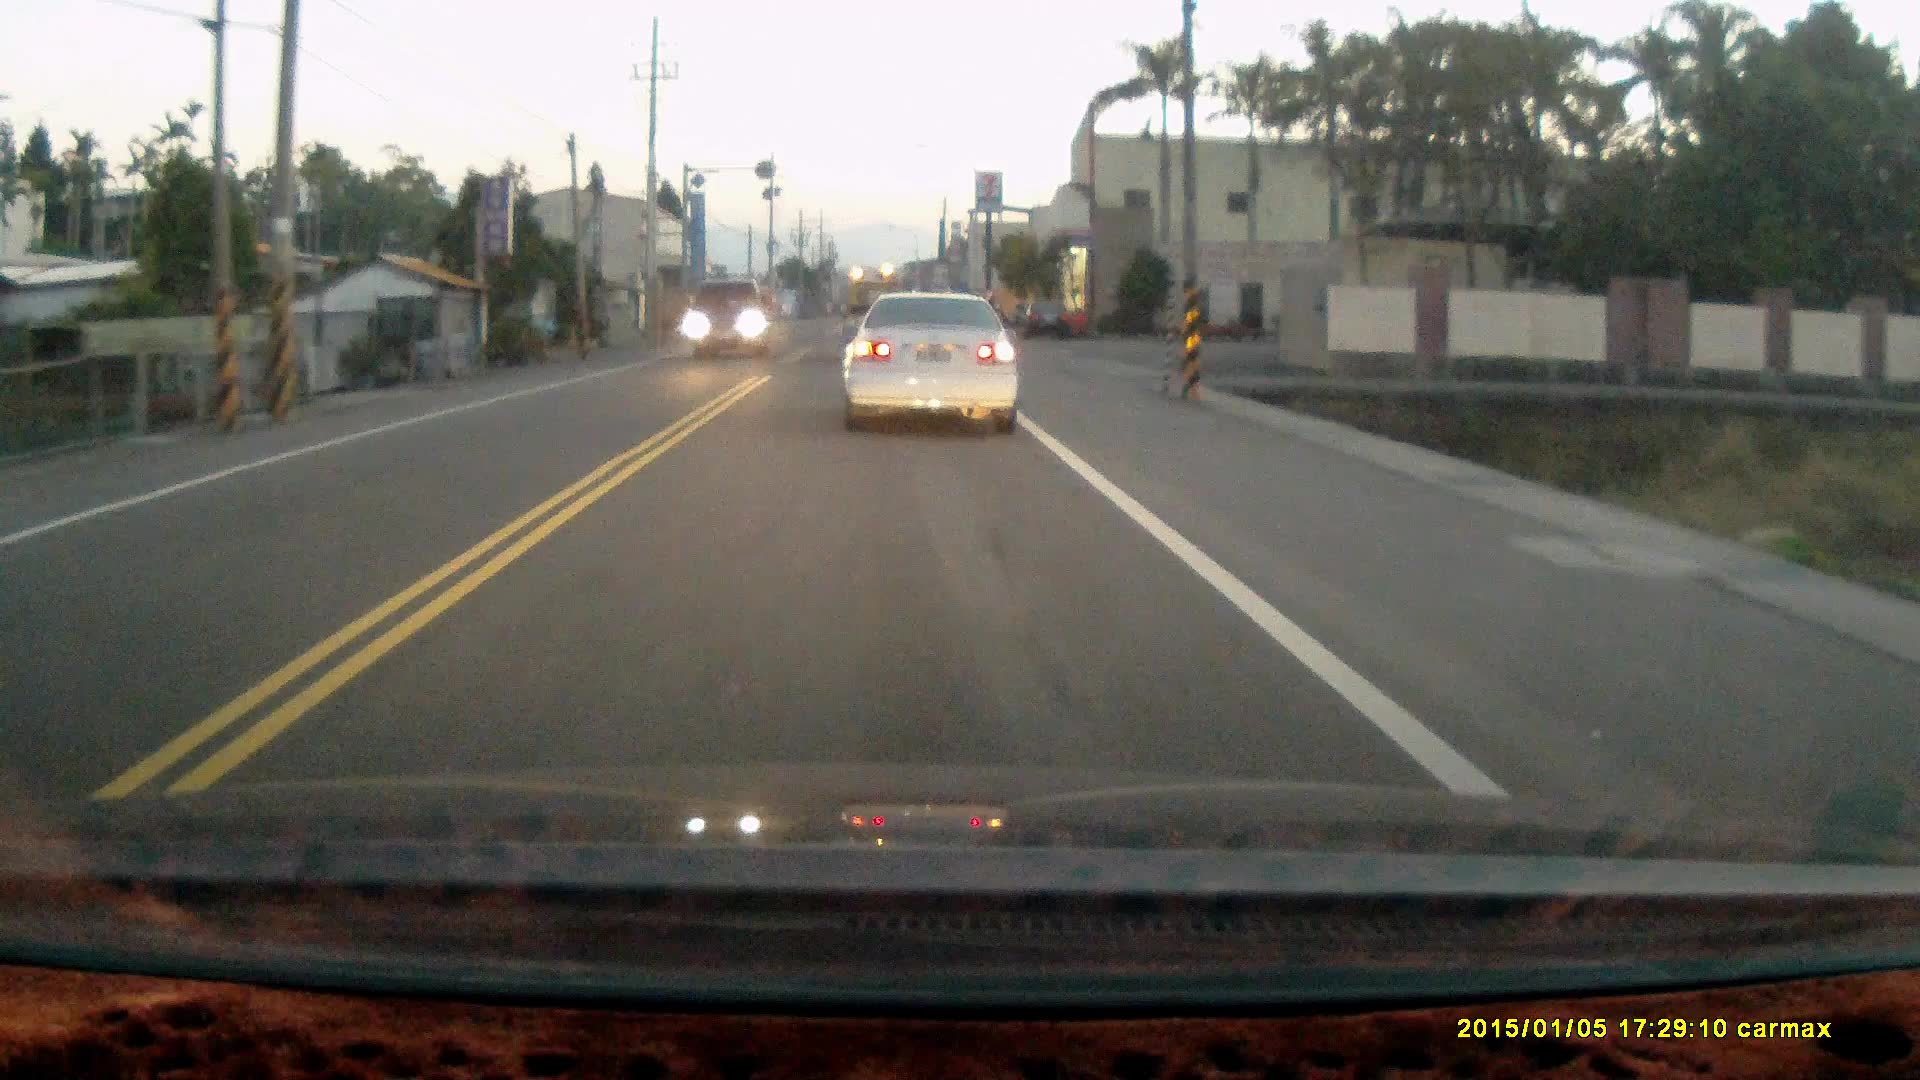vehicle: (845, 287, 1022, 429), (682, 280, 777, 359), (1017, 294, 1071, 339)
